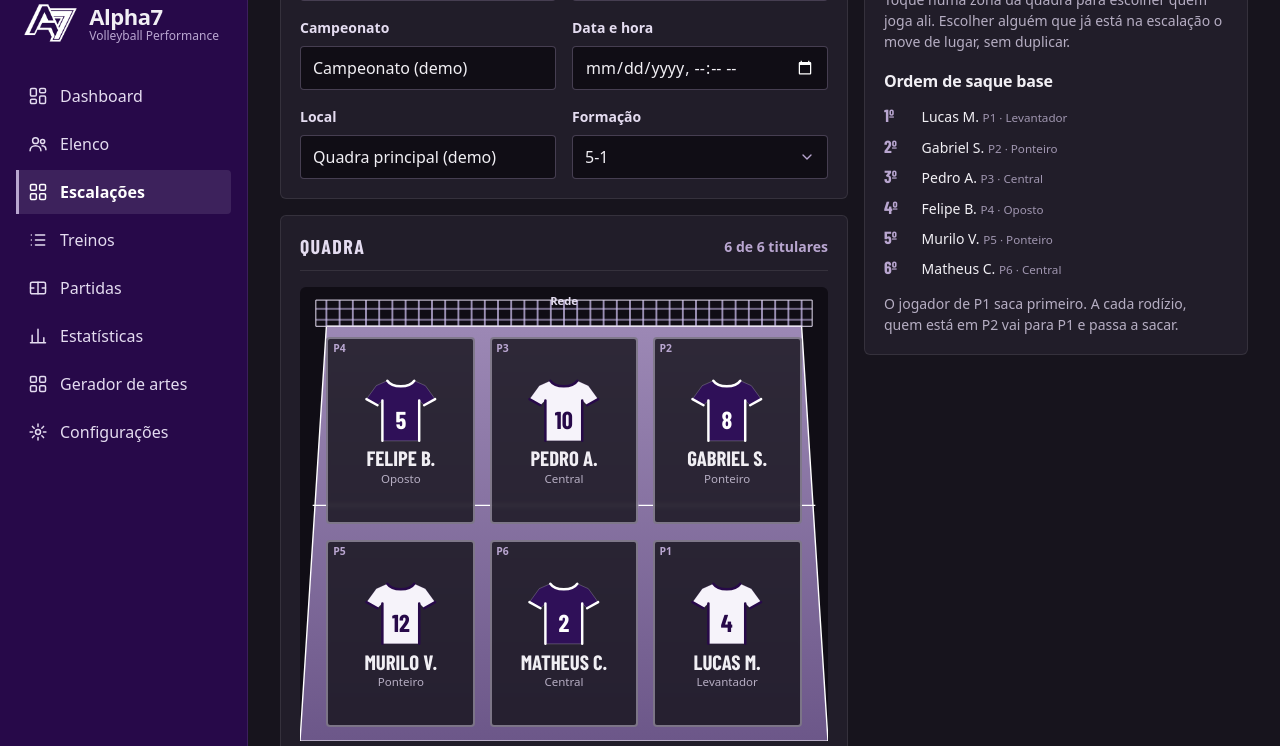
Montagem de escalação › permite trocar o papel tático sem mudar a posição habitual e avisa da incoerência
(page scrolled)
Click the button with aria-label "Zona P2": (727, 431) [653,337,802,524]
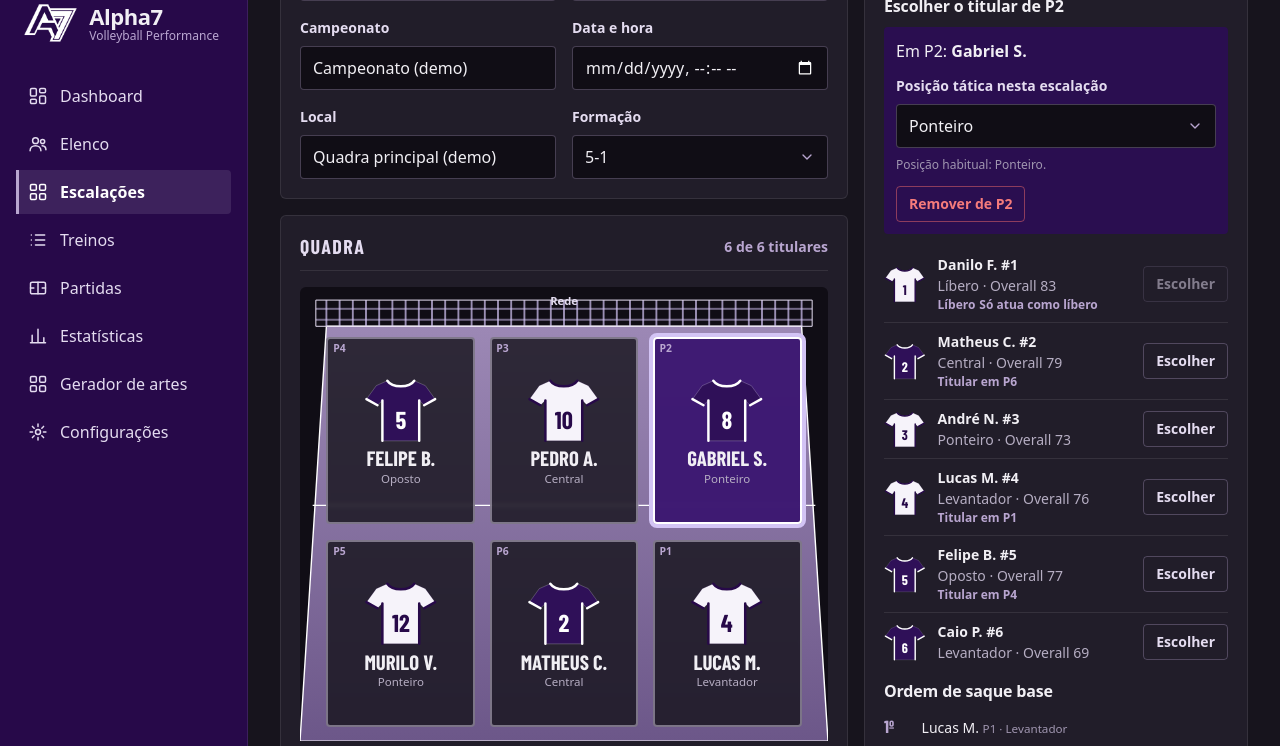
Now the text "Posição habitual: Ponteiro." is shown, box [896,156,1046,173]
Select "Central" in the dropdown labelled "Posição tática nesta escalação": (1056, 126) [896,104,1216,148]
(page scrolled)
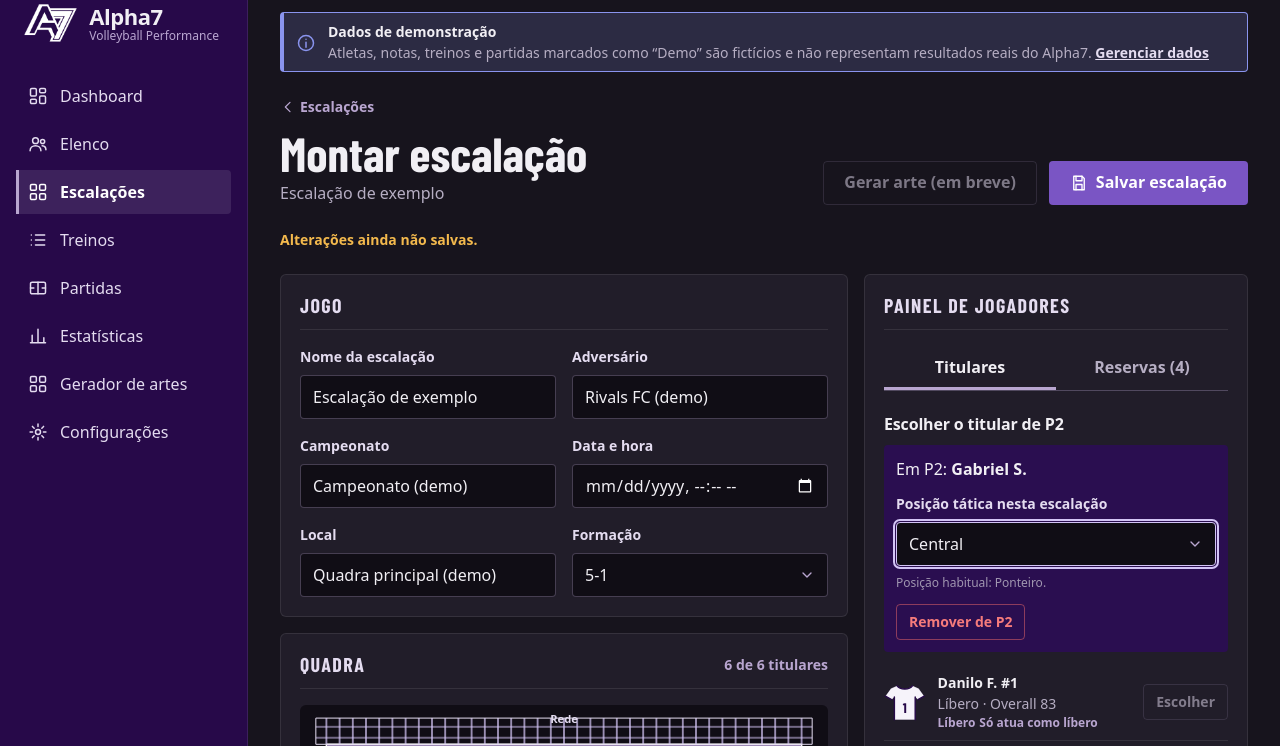
Now the text "Alterações ainda não salvas." is shown, box [280,230,478,249]
